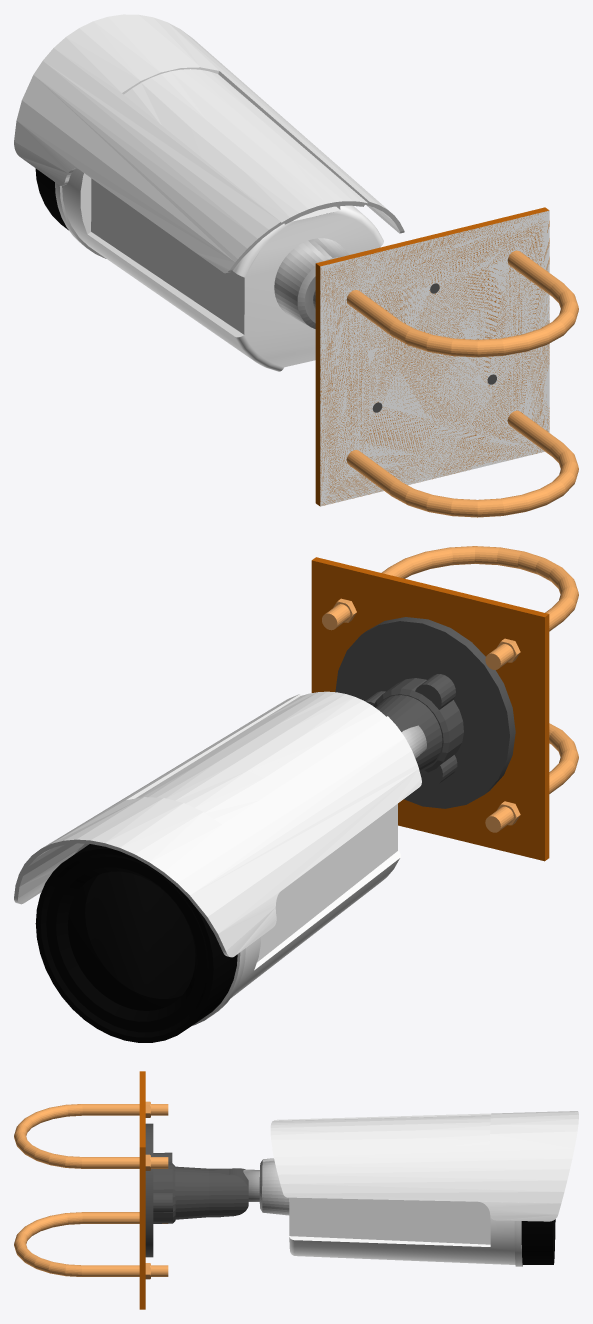
The model's file is cctv.FBX.
The picture shows the model from 3 angles, top to bottom: view 1: azimuth 30°, elevation 25°; view 2: azimuth 150°, elevation 25°; view 3: azimuth 270°, elevation 25°; orthographic projection. The views are drawn at different scales.
Visible parts, largest first — view 1: Body001, wallmount\, group_018, Lens001, Zoom; view 2: Body001, wallmount\, ID330, Zoom, Glass, group_018, Lens001; view 3: Body001, group_018, ID330, Lens001, wallmount\, Zoom.
Part boxes in pixels (box(x1,y1,x2,y2)): Body001: box(14, 14, 404, 371); wallmount\: box(315, 207, 549, 506); group_018: box(346, 250, 578, 517); Lens001: box(55, 182, 349, 328); Zoom: box(35, 168, 68, 230); Body001: box(14, 691, 421, 997); wallmount\: box(311, 557, 549, 861); ID330: box(335, 617, 515, 808); Zoom: box(35, 844, 237, 1042); Glass: box(67, 871, 195, 1010); group_018: box(322, 546, 578, 832); Lens001: box(75, 725, 426, 1025); Body001: box(270, 1111, 578, 1264); group_018: box(14, 1101, 168, 1279); ID330: box(145, 1123, 248, 1257); Lens001: box(243, 1158, 522, 1266); wallmount\: box(139, 1071, 145, 1309); Zoom: box(521, 1219, 555, 1264).
Size of the model in its own units: 0.12 by 0.12 by 0.3784.
Materials: 8 (1 with a texture image).
